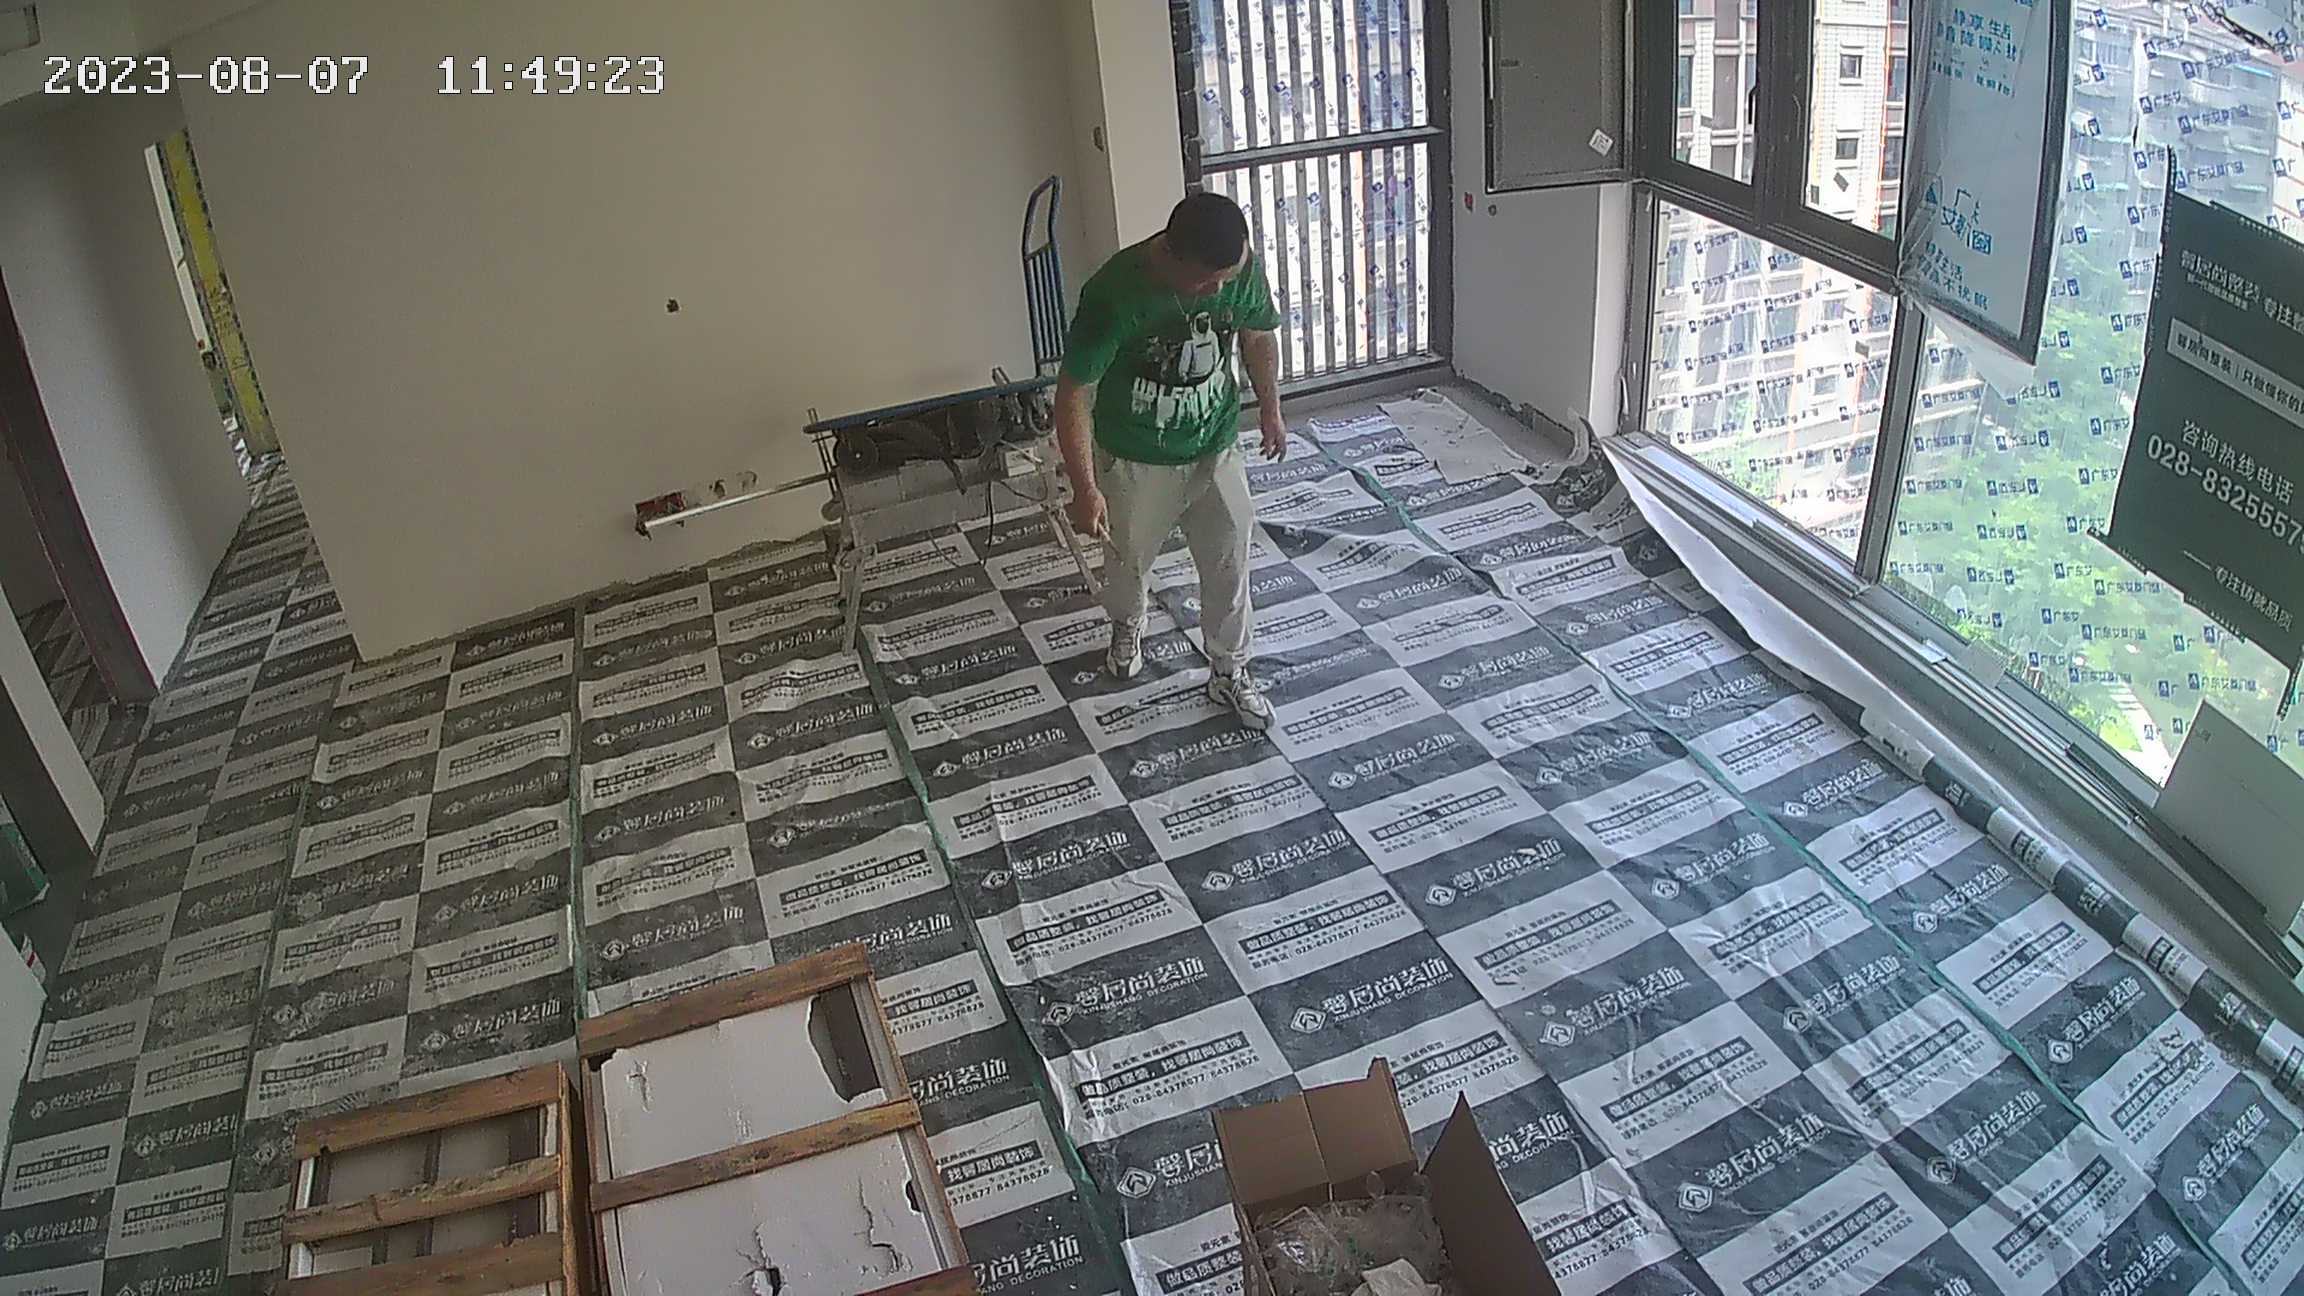people: (1044, 201, 1286, 727)
window: (1644, 6, 2304, 840)
